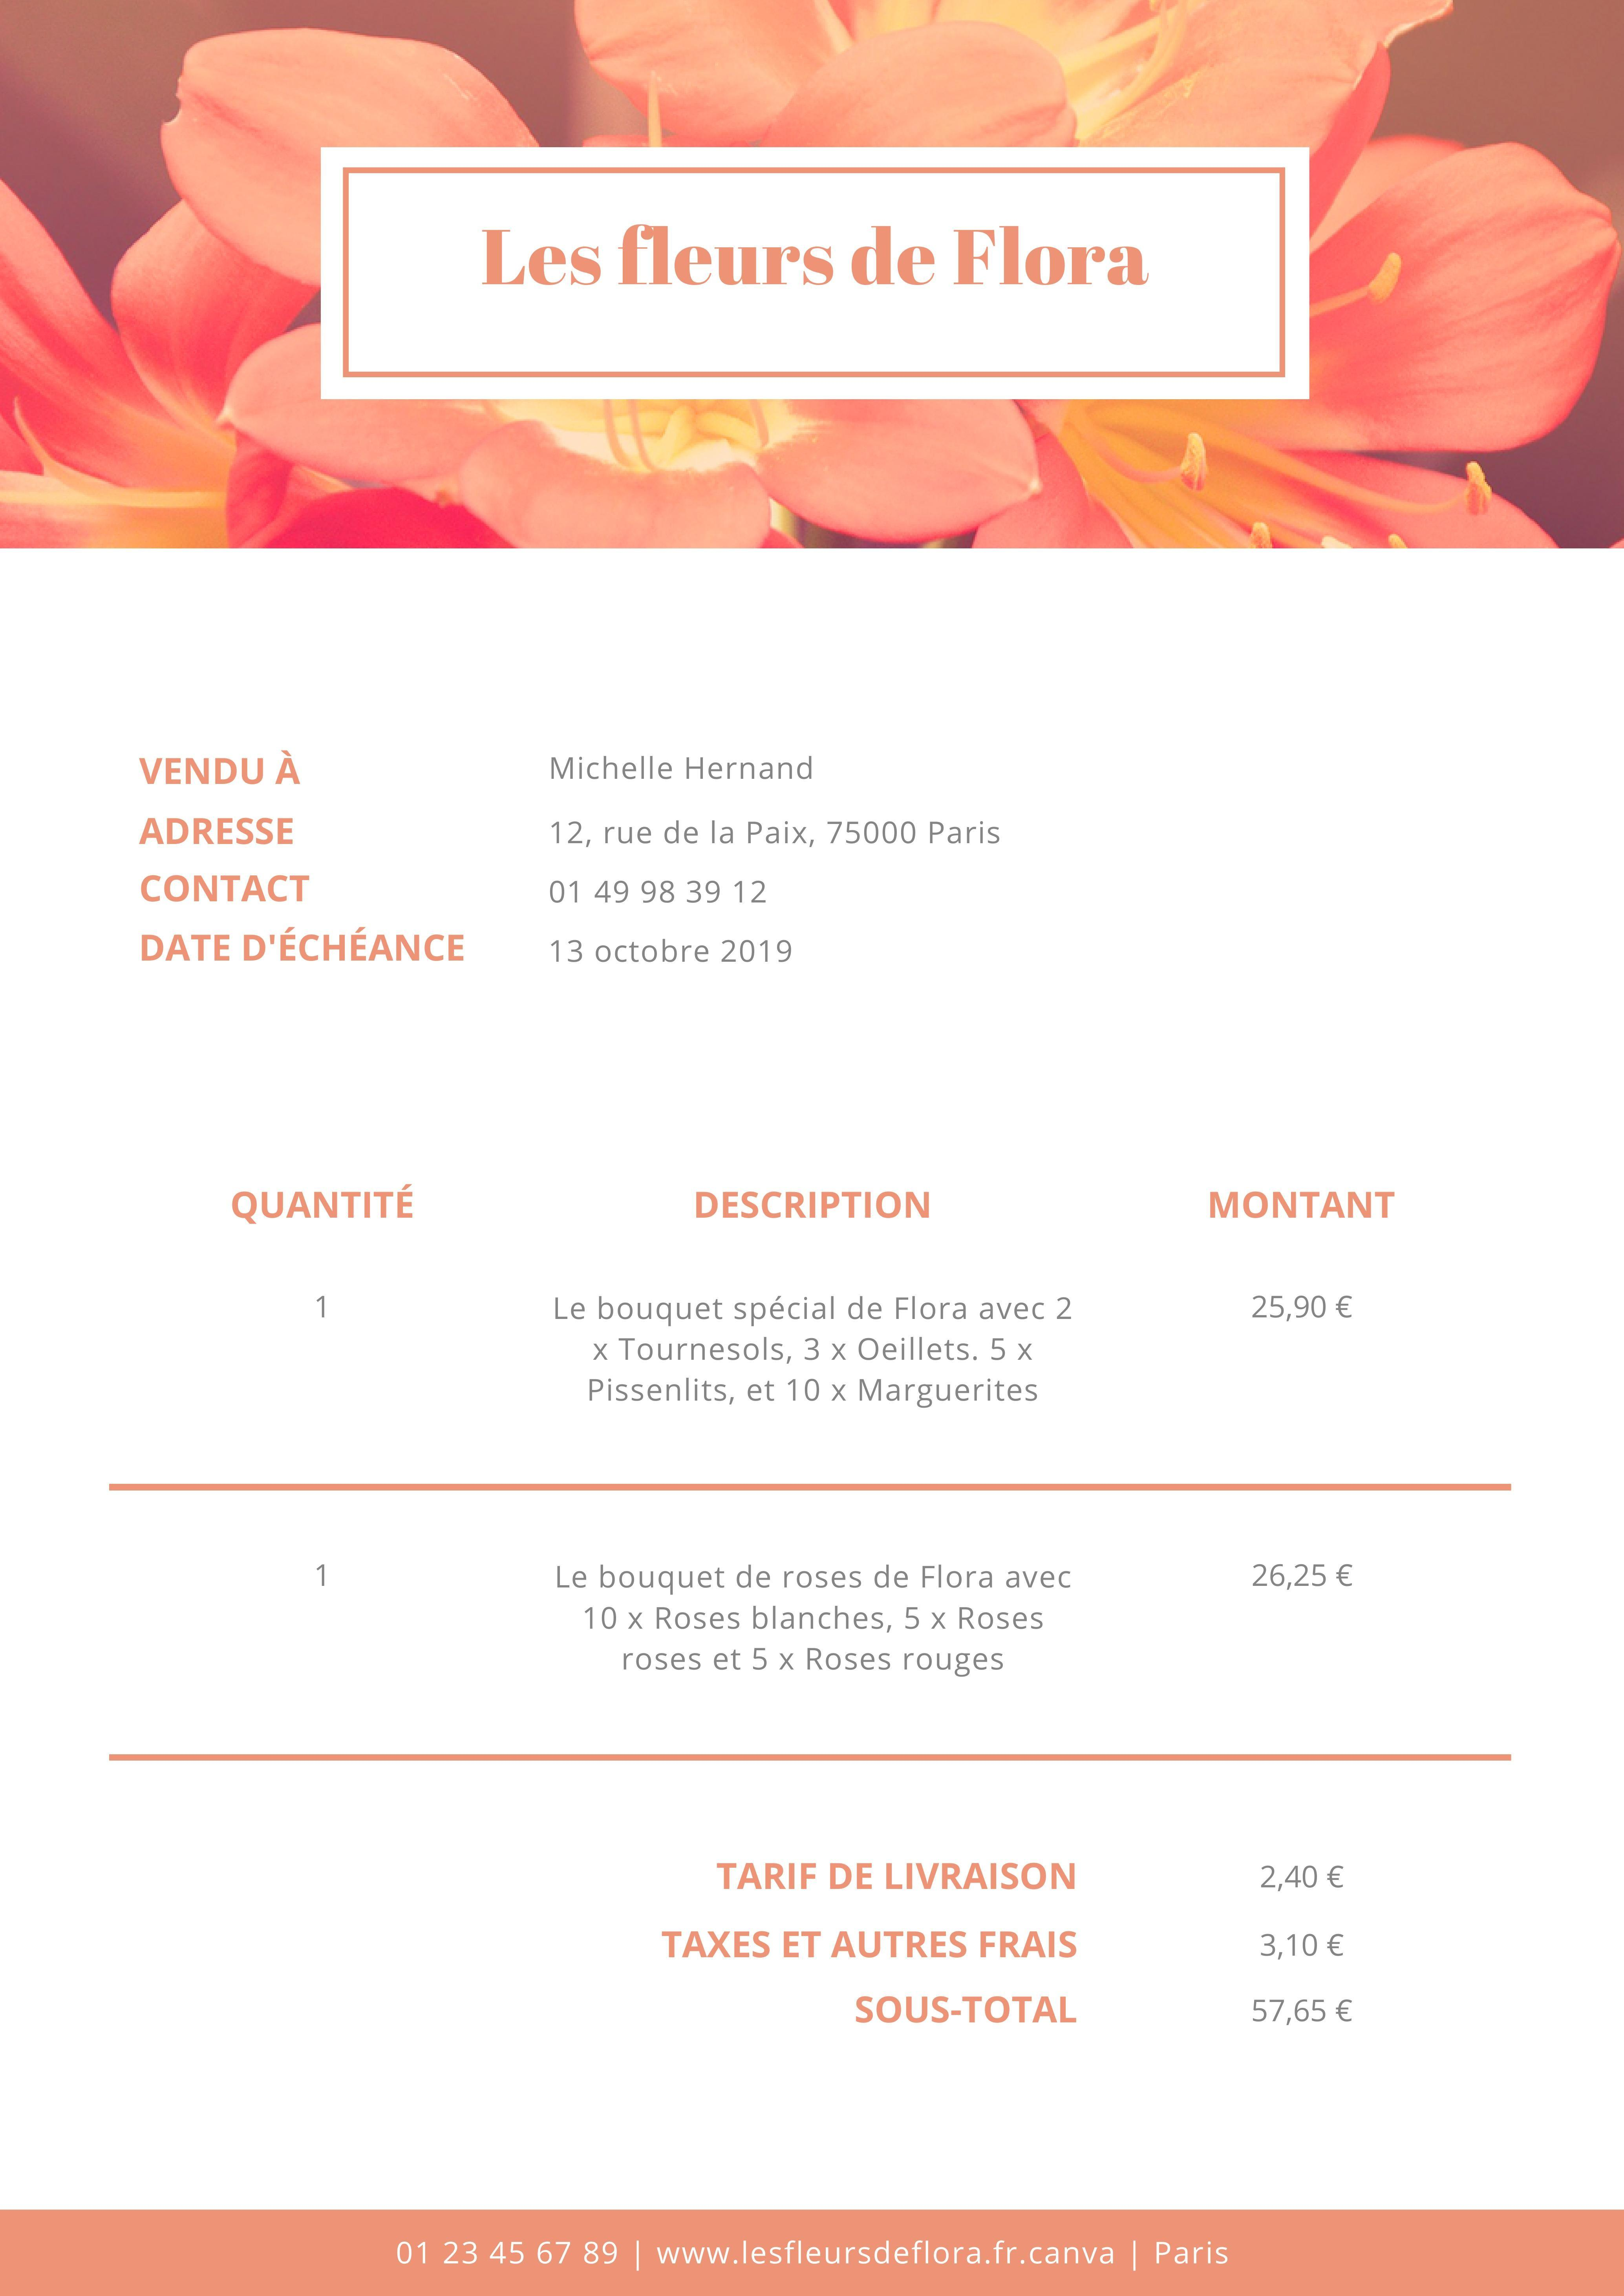ROI: (208, 1174, 1429, 1702), (122, 734, 1085, 990), (648, 1837, 1417, 2054), (440, 184, 1213, 323)
